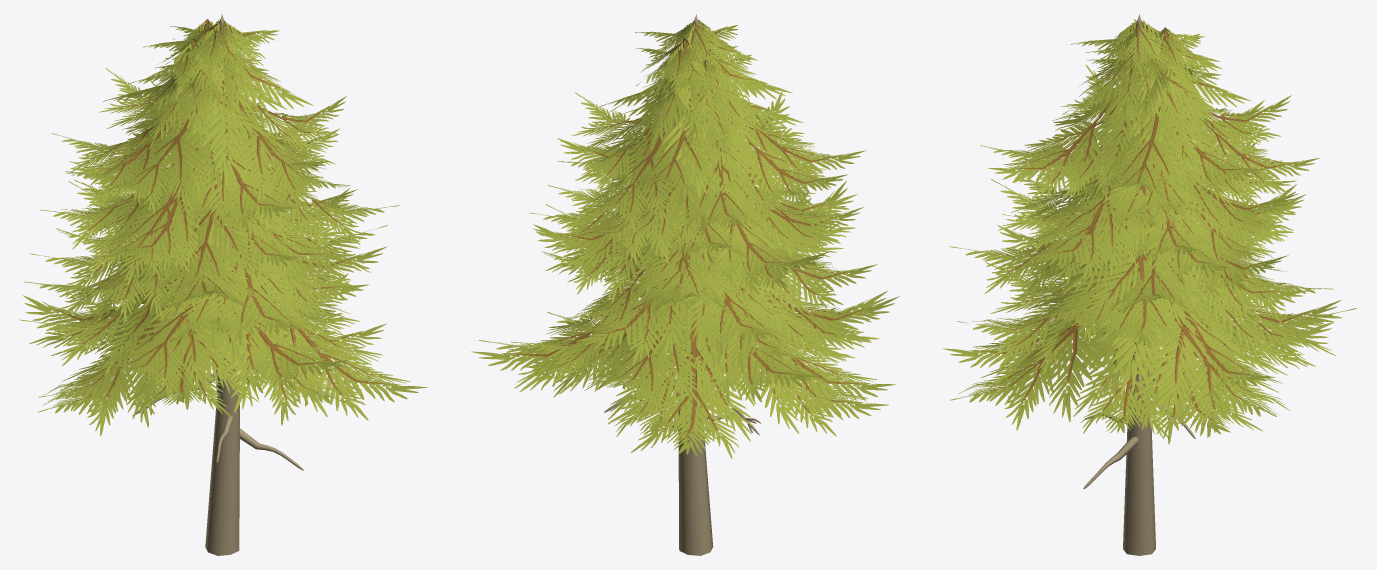
File: approved-pine-8.gltf
3 renders of one model, left to right at view 1: azimuth 30°, elevation 25°; view 2: azimuth 150°, elevation 25°; view 3: azimuth 270°, elevation 25°, orthographic.
Bounding box in the file's own units: 1.39 × 1.9 × 1.38.
Materials: 2 (1 with a texture image).
